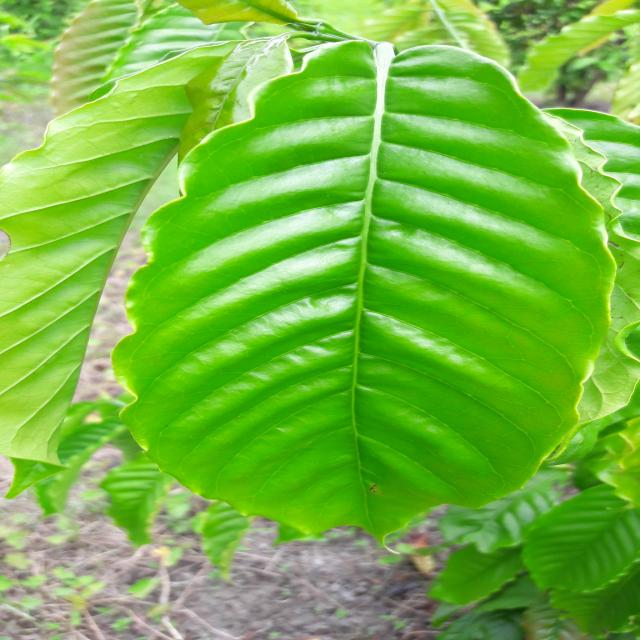Enfermedad-Roya: (112, 35, 611, 544)
